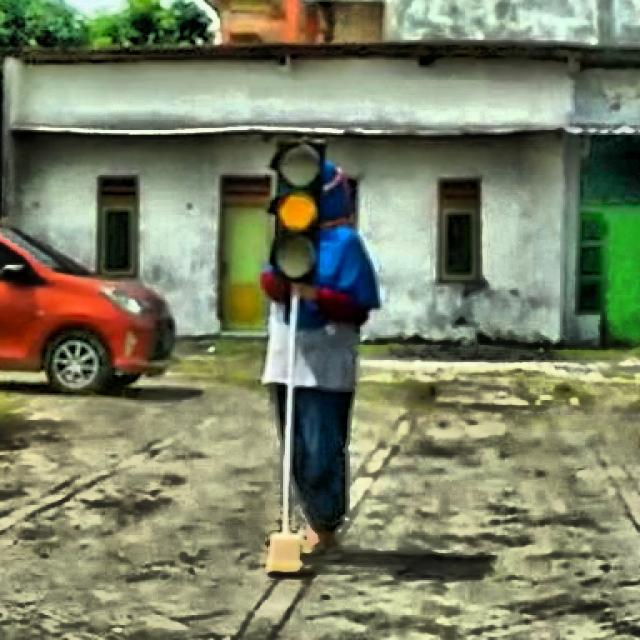yellow: (268, 137, 327, 285)
